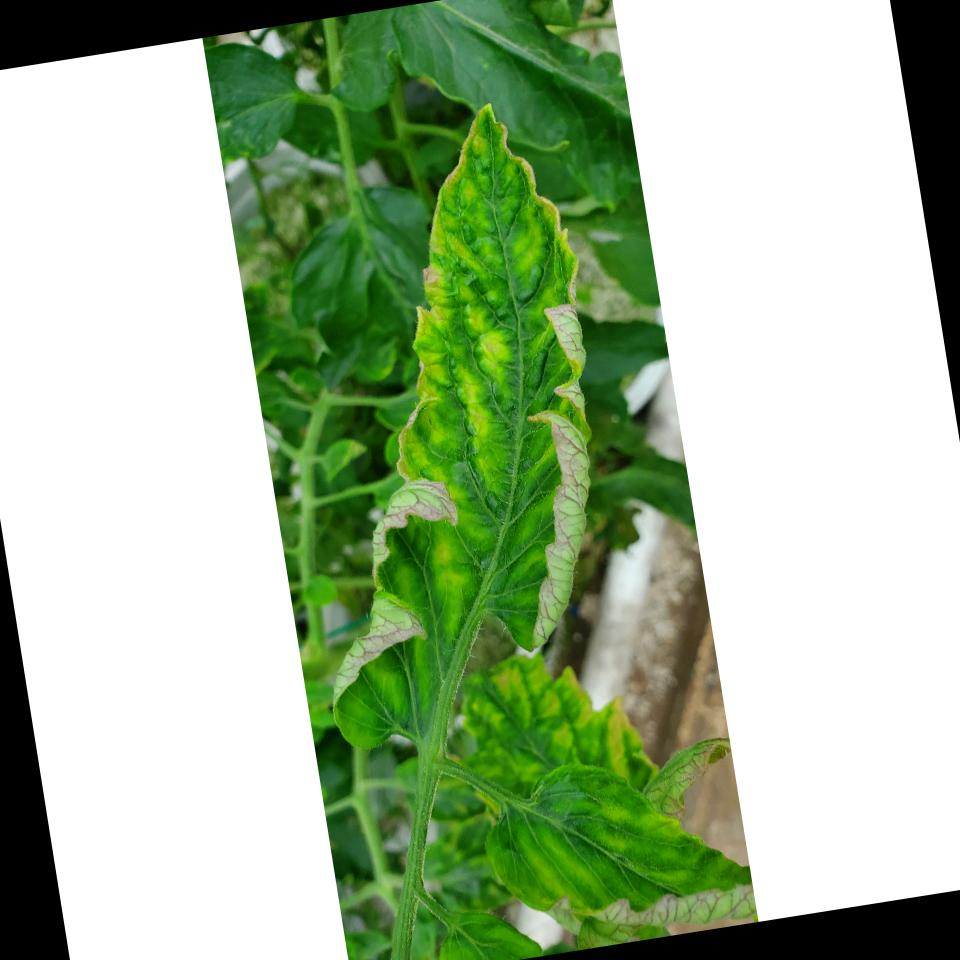tomato_yellow_leaf_curl_virus: (313, 87, 634, 680)
